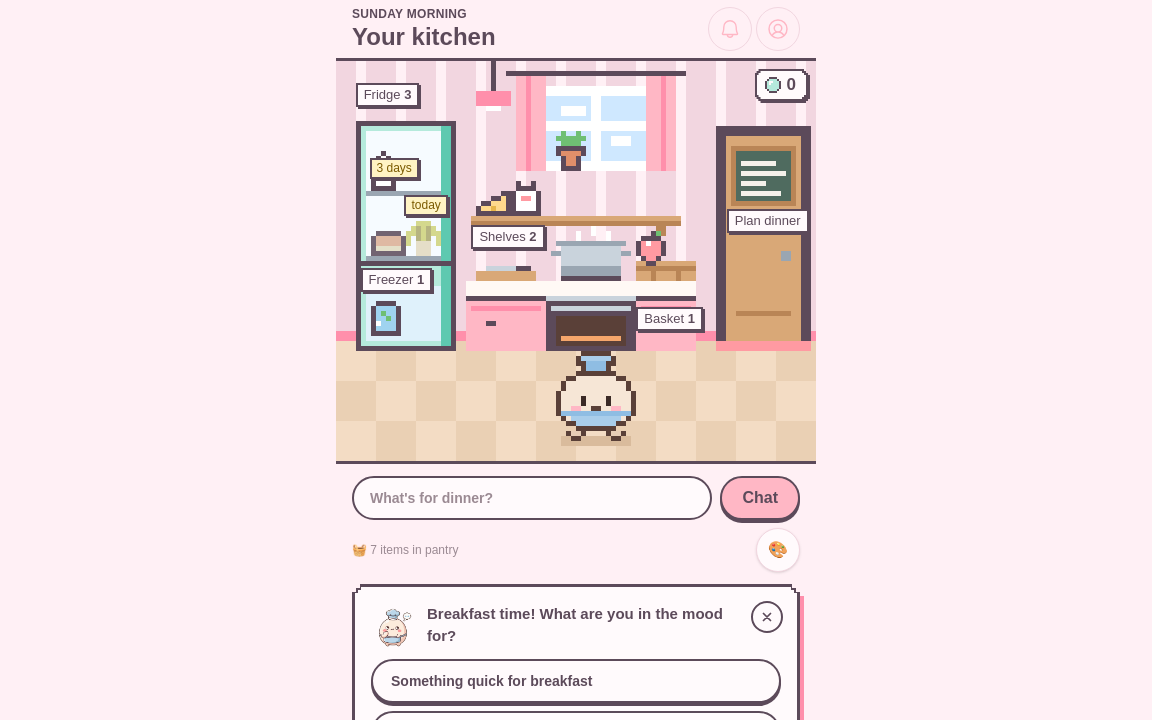
Test: opening a place › Fridge opens its own sheet, on its own tab
The image size is (1152, 720).
Click the button with aria-label "Fridge, 3 items".
click(406, 174)  # box x1=356 y1=83 x2=456 y2=266
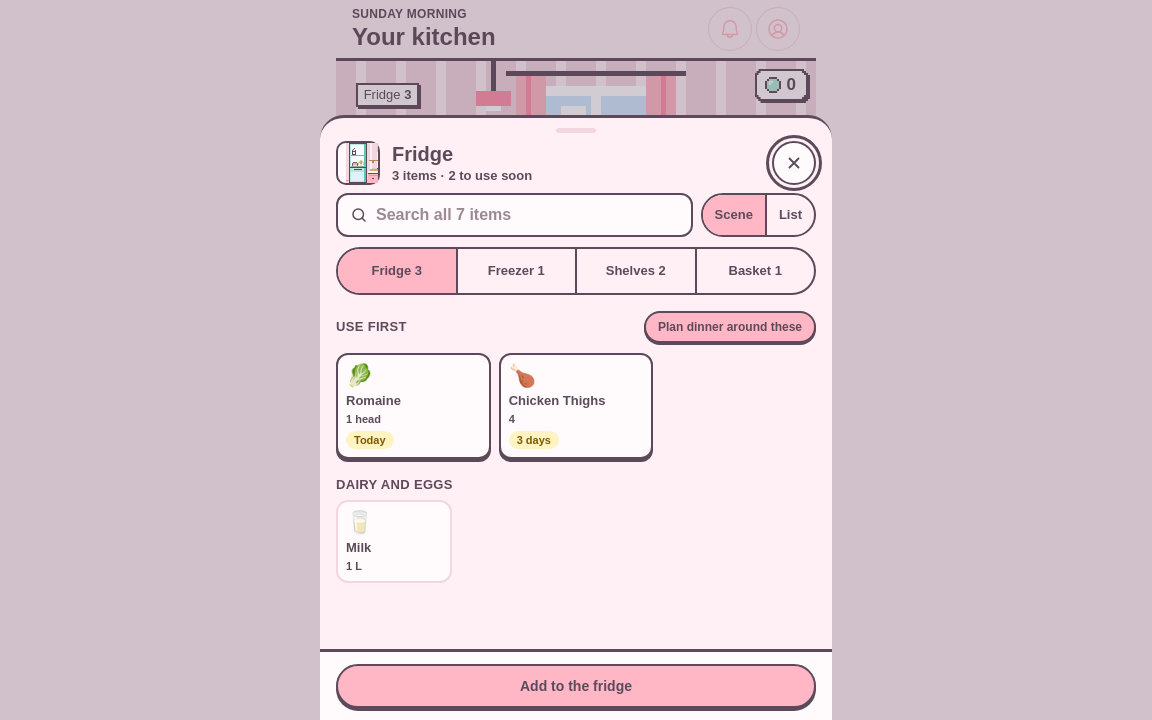
Check: the heading "Fridge" is shown, box x1=392 y1=143 x2=453 y2=165
Check: the button "Add to the fridge" is shown, box x1=336 y1=664 x2=816 y2=708
